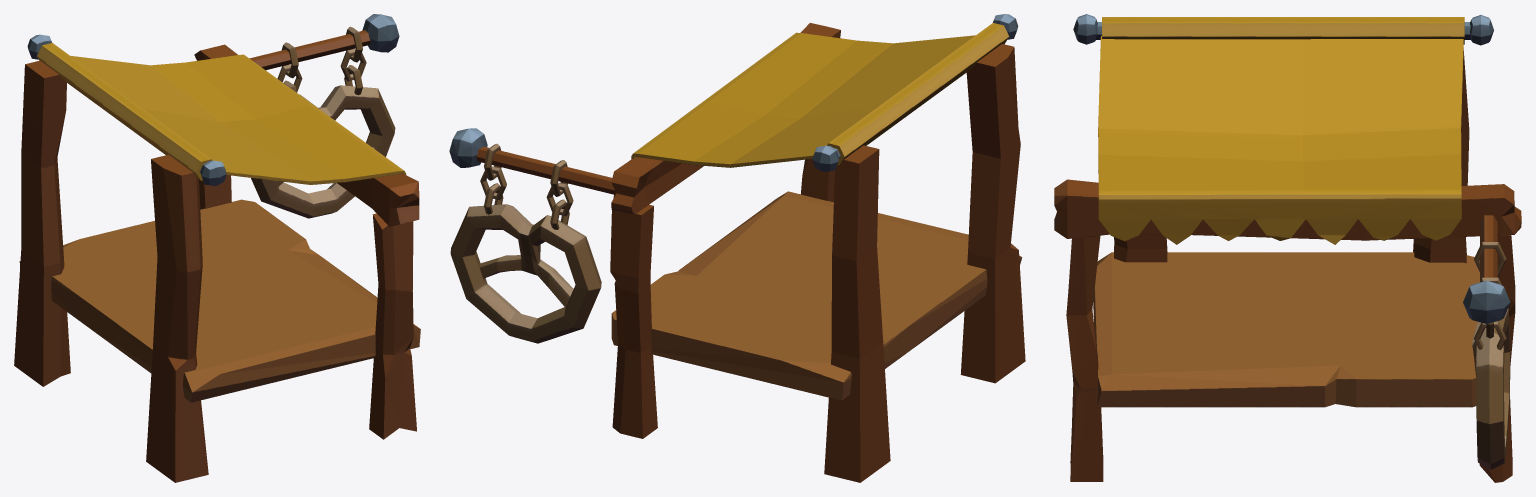
The model's file is tent2.fbx.
The picture shows the model from 3 angles, left to right: view 1: azimuth 30°, elevation 25°; view 2: azimuth 150°, elevation 25°; view 3: azimuth 270°, elevation 25°; orthographic projection. The views are drawn at different scales.
Parts seen in each view (by area): view 1: tent02; view 2: tent02; view 3: tent02.
Boxes of the visible parts, x1,y1,x2,y2 form: tent02: [14, 14, 420, 482]; tent02: [449, 14, 1025, 482]; tent02: [1054, 14, 1521, 482].
Bounding box in the file's own units: 470 × 372 × 429.
